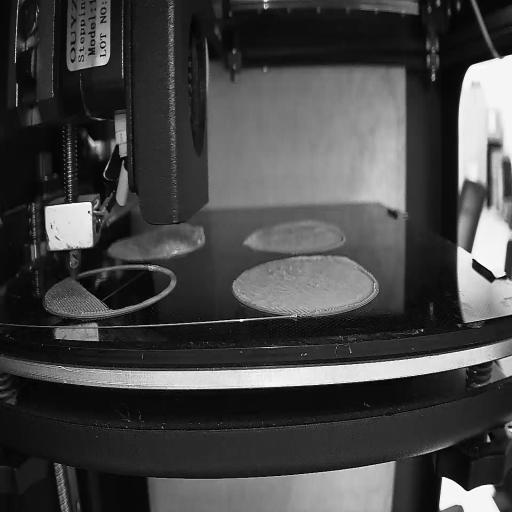over_extrusion: (358, 260, 380, 306)
